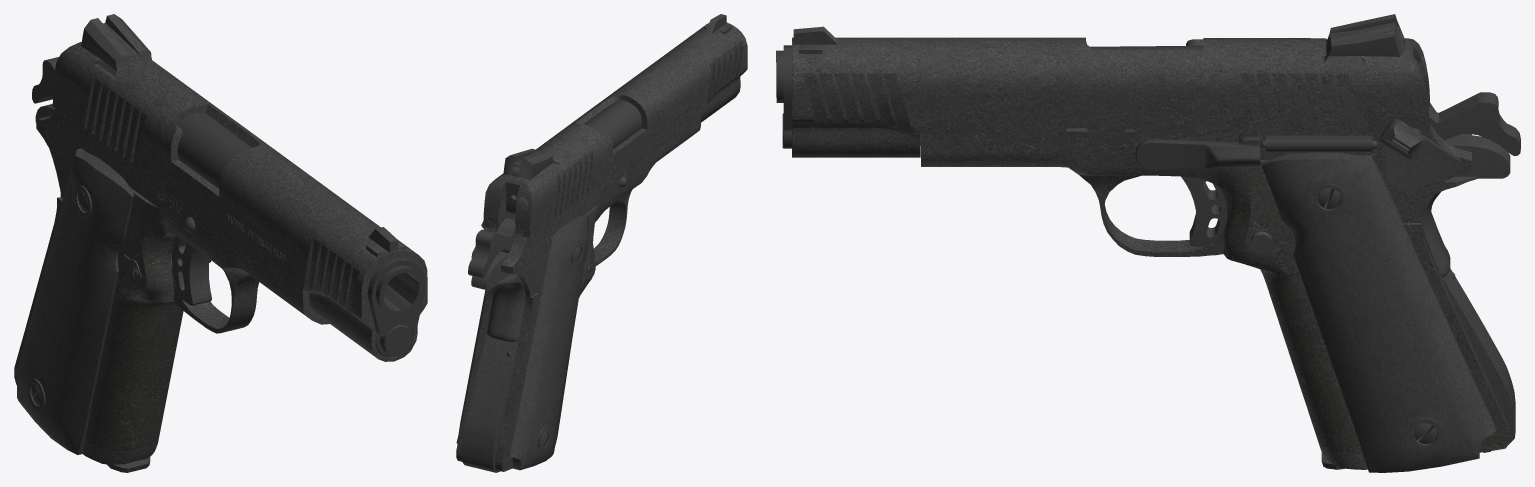
File: m1911-showcase.glb
3 renders of one model, left to right at view 1: azimuth 30°, elevation 25°; view 2: azimuth 150°, elevation 25°; view 3: azimuth 270°, elevation 25°, orthographic. The views are drawn at different scales.
Parts seen in each view (by area): view 1: Slide, Frame, Grips, Barrel, Rear_Sight, Trigger, Barrel_Bushing, Recoil_Spring_Plug, Hammer, Front_Sight; view 2: Slide, Grips, Frame, Mainspring_Housing, Grip_Safety, Barrel, Hammer, Rear_Sight, Front_Sight; view 3: Slide, Grips, Frame, Thumb_Safety, Slide_Stop, Grip_Safety, Mainspring_Housing, Hammer, Rear_Sight, Trigger, Plunger_Tube, Front_Sight (+3 smaller).
Part boxes in pixels (<box>): Slide: <box>52,42,427,361</box>; Frame: <box>14,108,329,464</box>; Grips: <box>15,148,134,454</box>; Barrel: <box>177,112,423,315</box>; Rear_Sight: <box>81,14,152,76</box>; Trigger: <box>171,236,211,305</box>; Barrel_Bushing: <box>367,257,426,336</box>; Recoil_Spring_Plug: <box>375,325,413,357</box>; Hammer: <box>32,57,58,103</box>; Front_Sight: <box>366,227,405,256</box>; Slide: <box>483,22,747,237</box>; Grips: <box>456,215,588,470</box>; Frame: <box>456,113,700,471</box>; Mainspring_Housing: <box>461,334,518,472</box>; Grip_Safety: <box>471,251,525,341</box>; Barrel: <box>584,100,642,148</box>; Hammer: <box>468,218,515,278</box>; Rear_Sight: <box>503,148,556,180</box>; Front_Sight: <box>704,14,731,34</box>; Slide: <box>792,37,1429,157</box>; Grips: <box>1261,152,1496,472</box>; Frame: <box>921,94,1509,469</box>; Thumb_Safety: <box>1380,119,1462,193</box>; Slide_Stop: <box>1135,133,1260,170</box>; Grip_Safety: <box>1421,134,1510,278</box>; Mainspring_Housing: <box>1442,268,1515,452</box>; Hammer: <box>1428,92,1520,155</box>; Rear_Sight: <box>1324,14,1405,61</box>; Trigger: <box>1181,176,1227,246</box>; Plunger_Tube: <box>1265,135,1372,151</box>; Front_Sight: <box>793,26,837,53</box>.
Size of the model in its own units: 0.6848 by 2.65 by 4.04.
4 materials, 4 textured.
